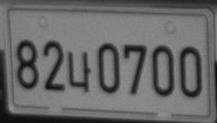0: (178, 45, 203, 98), (151, 44, 175, 96), (97, 41, 120, 94)
2: (42, 39, 66, 90)
7: (123, 43, 148, 95)
8: (15, 38, 39, 89)
나: (67, 50, 92, 92)
